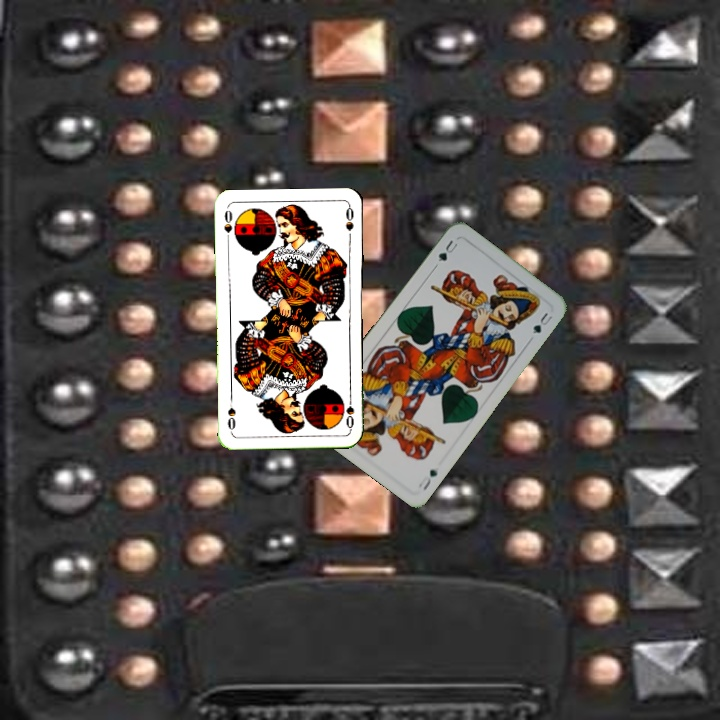GU: (431, 236, 461, 270), (414, 465, 441, 493)
SO: (342, 391, 357, 432), (220, 204, 235, 245)
